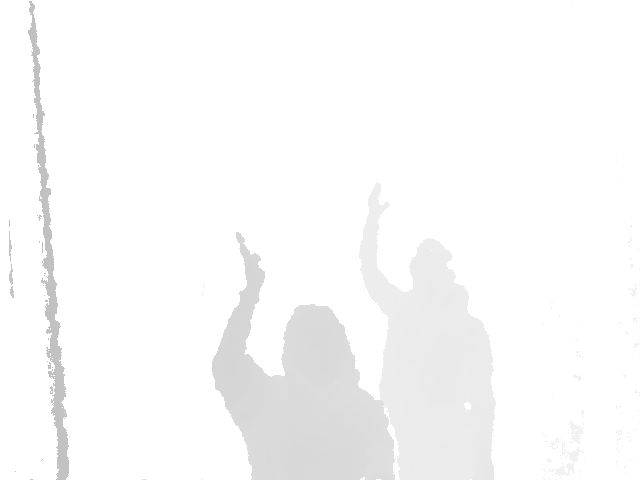hand: (235, 231, 266, 290), (365, 182, 390, 216)
head: (283, 304, 350, 388), (408, 237, 450, 291)
person: (210, 231, 400, 480), (357, 182, 498, 480)
